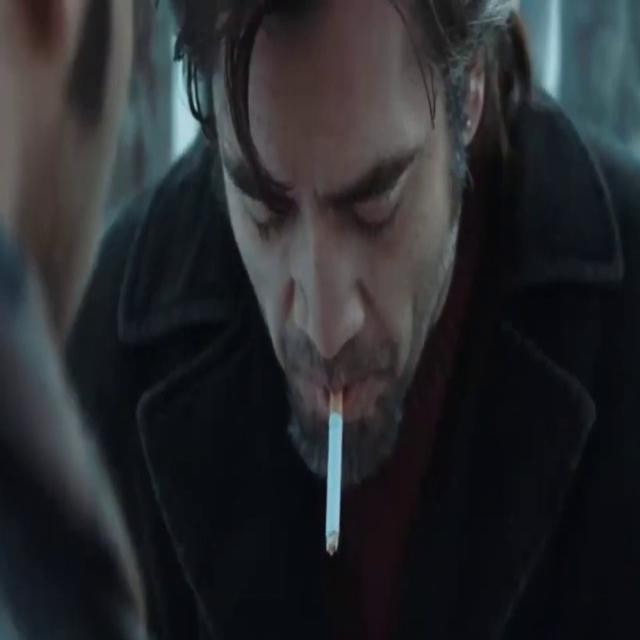Smooking: (322, 388, 348, 570)
